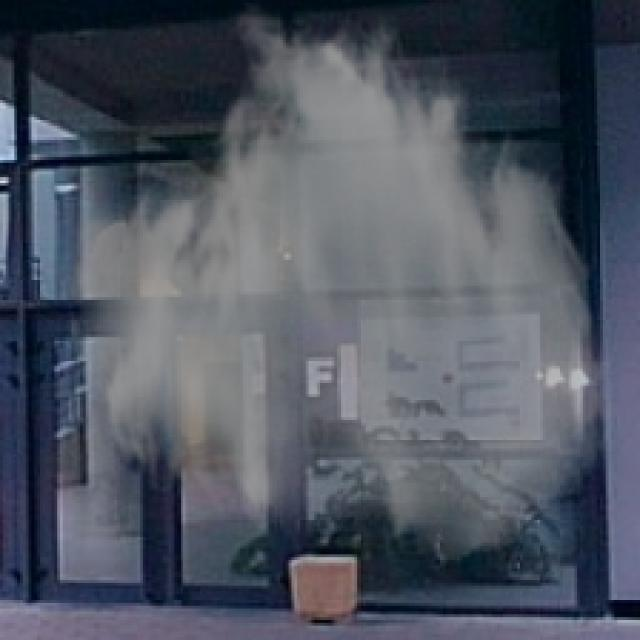smoke: (63, 0, 620, 566)
